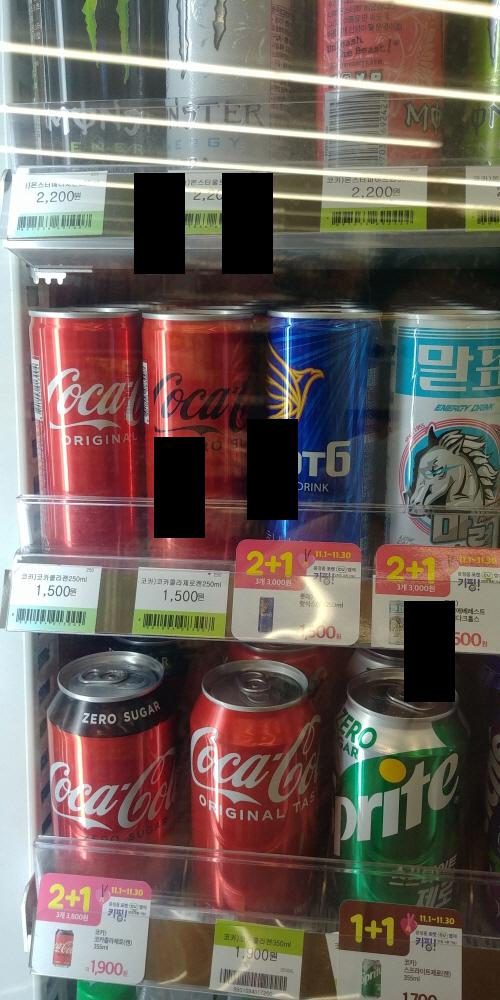cocacola: (188, 668, 310, 911)
hotsix_org: (261, 300, 394, 534)
